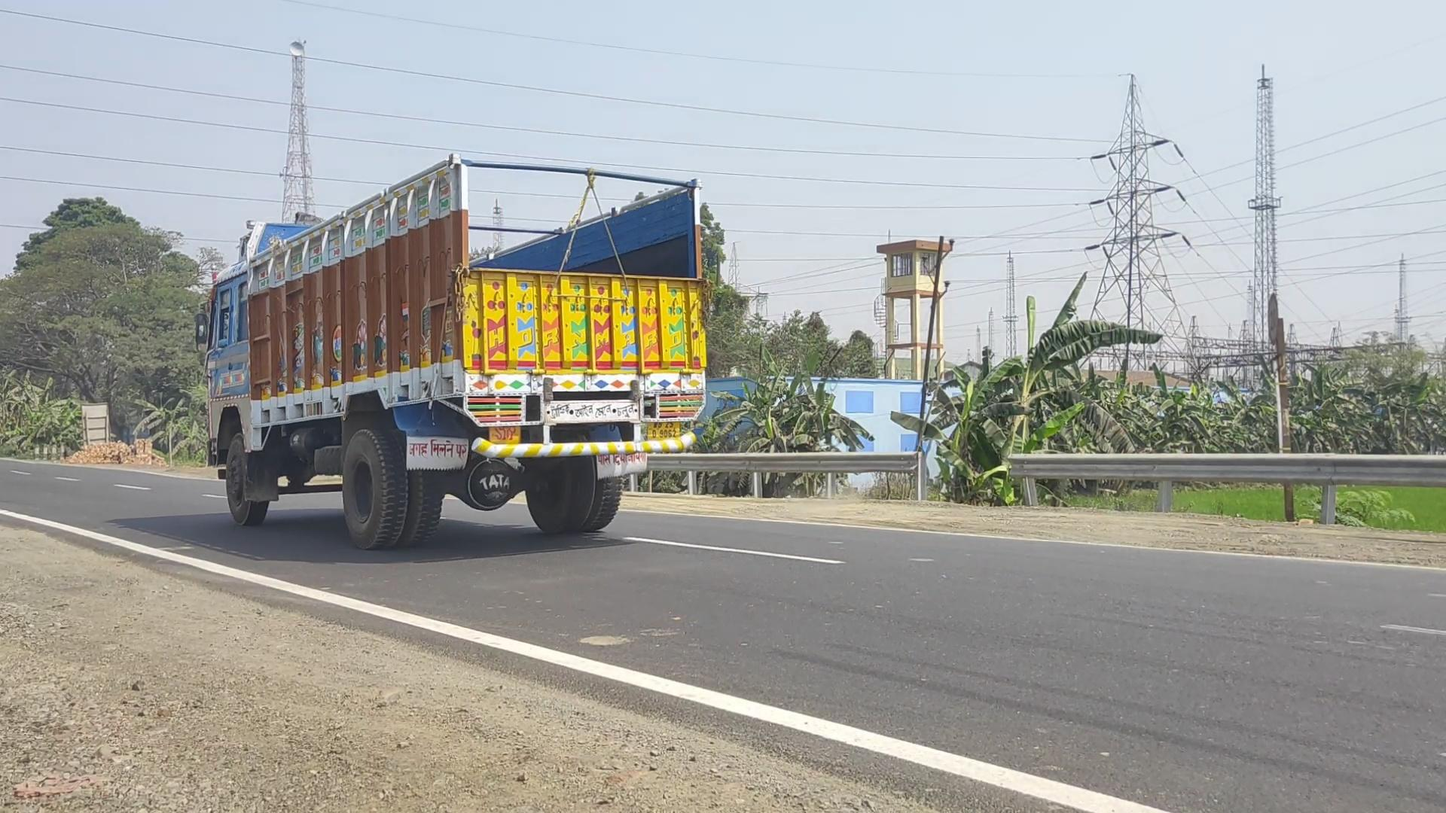truck: (195, 153, 712, 552)
